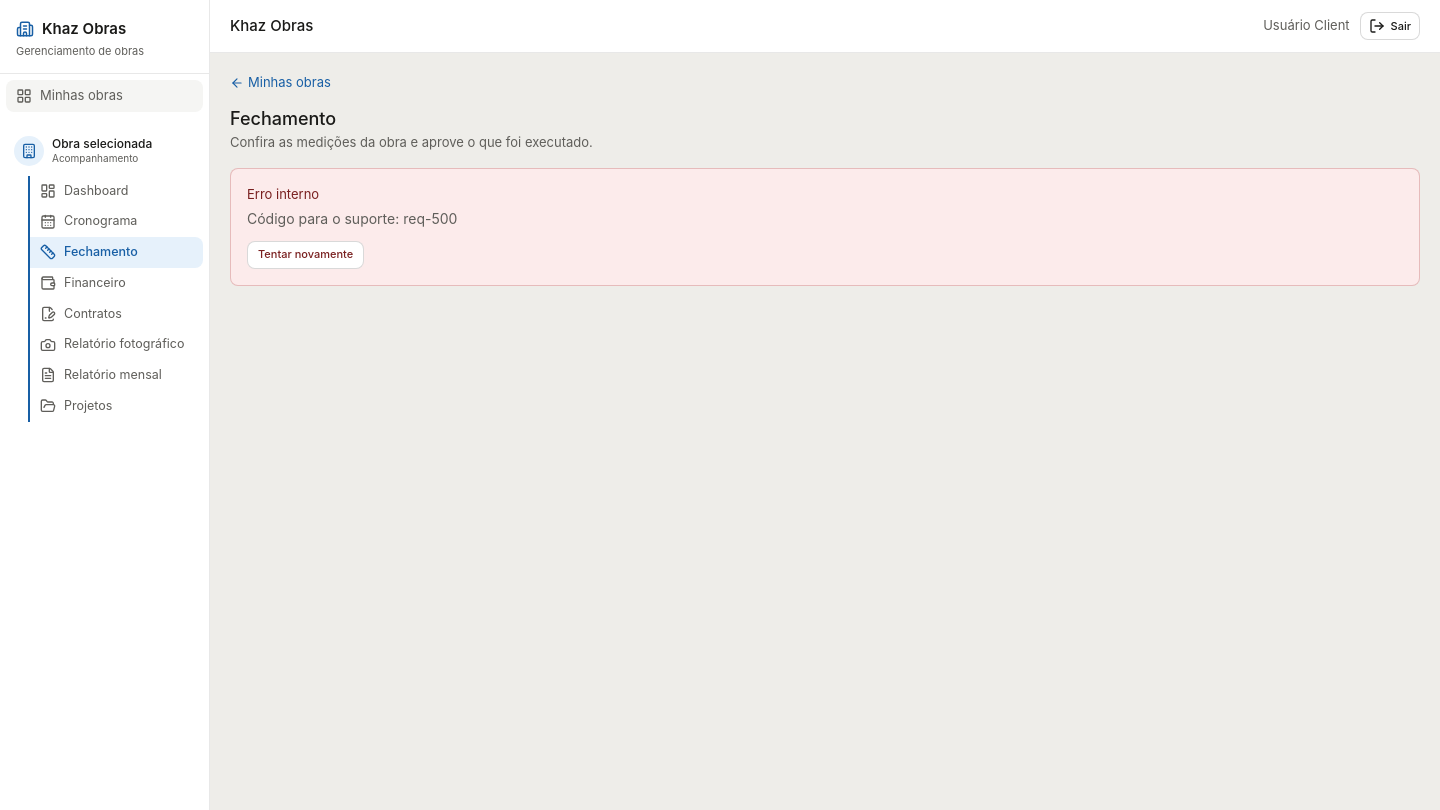
Test: Fechamento - lista (cliente) › erro 500 mostra o código de suporte e permite tentar de novo
Expected: the message shows "req-500", [403,210,457,226]
Click the button "Tentar novamente". click: point(306, 254)
box: [247,240,364,268]
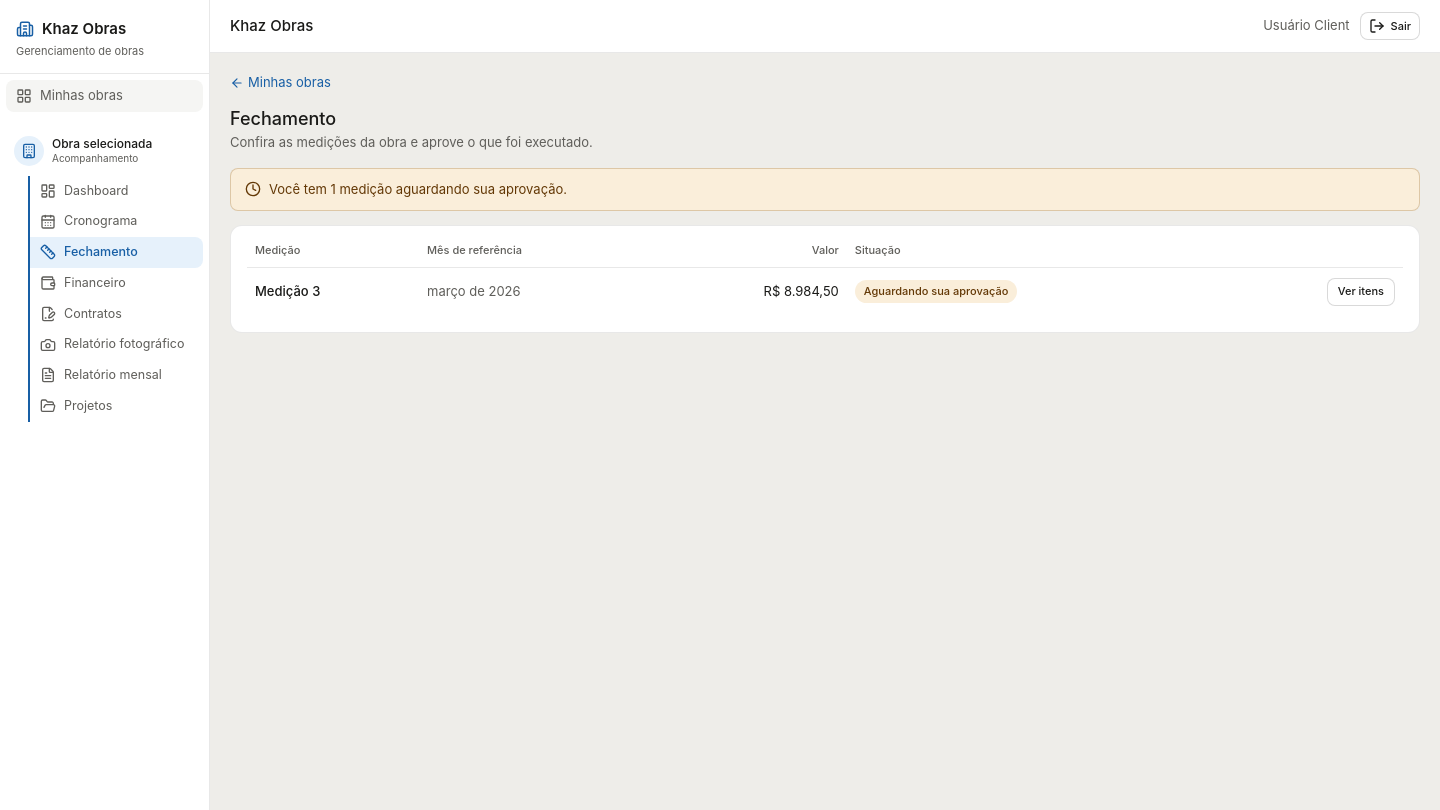
Expected: the text "Medição 3" is shown, [247,267,419,316]
